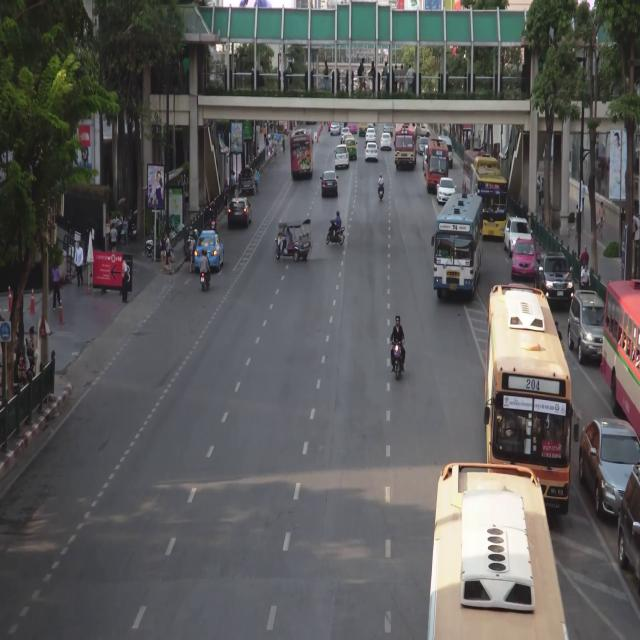bus: (432, 461, 568, 640), (486, 286, 571, 520), (603, 283, 640, 433), (437, 194, 481, 303), (470, 162, 505, 239), (465, 150, 493, 197), (428, 137, 449, 191), (290, 130, 312, 177), (395, 123, 416, 166)
car: (580, 420, 640, 514), (568, 288, 606, 365), (619, 459, 640, 583), (538, 251, 575, 304), (277, 216, 310, 260), (505, 214, 531, 254), (228, 197, 252, 226), (437, 178, 455, 203), (440, 136, 453, 168), (240, 169, 255, 194), (322, 172, 337, 197), (336, 145, 350, 168), (365, 143, 378, 161), (416, 122, 430, 137), (381, 133, 391, 150), (417, 138, 429, 151), (366, 129, 376, 142), (330, 122, 340, 135), (423, 145, 428, 169), (343, 134, 354, 144), (384, 123, 392, 135), (342, 127, 349, 138)
pedestrian: (51, 260, 62, 308), (75, 243, 85, 285), (121, 257, 129, 304), (164, 233, 172, 271), (160, 231, 167, 271), (28, 326, 35, 366), (110, 223, 117, 252), (581, 266, 590, 288), (580, 244, 589, 266), (581, 180, 586, 215), (597, 215, 604, 237), (184, 178, 189, 208), (231, 169, 236, 197), (224, 179, 228, 210), (255, 166, 259, 195), (599, 200, 604, 223), (536, 173, 541, 190), (265, 134, 269, 155), (282, 133, 285, 155), (274, 142, 277, 160), (269, 136, 272, 154)
taxi: (195, 230, 224, 270), (512, 237, 537, 280), (345, 138, 357, 159), (359, 122, 367, 136)
